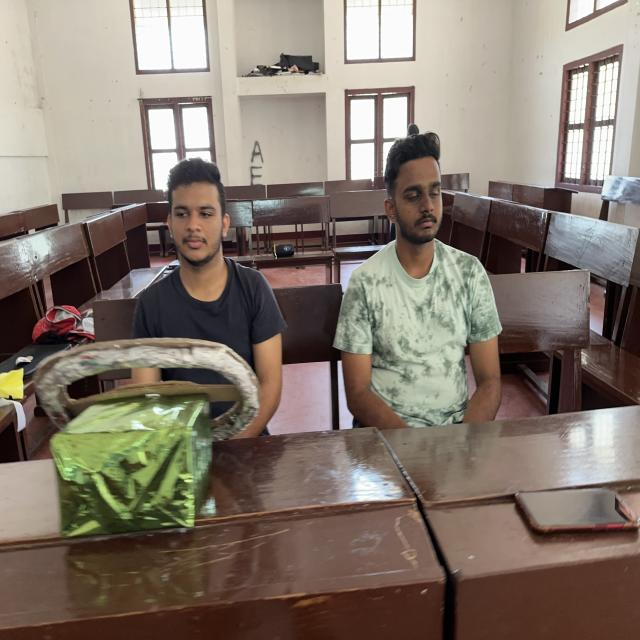no-seatbelt: (336, 246, 506, 449), (129, 265, 287, 456)
